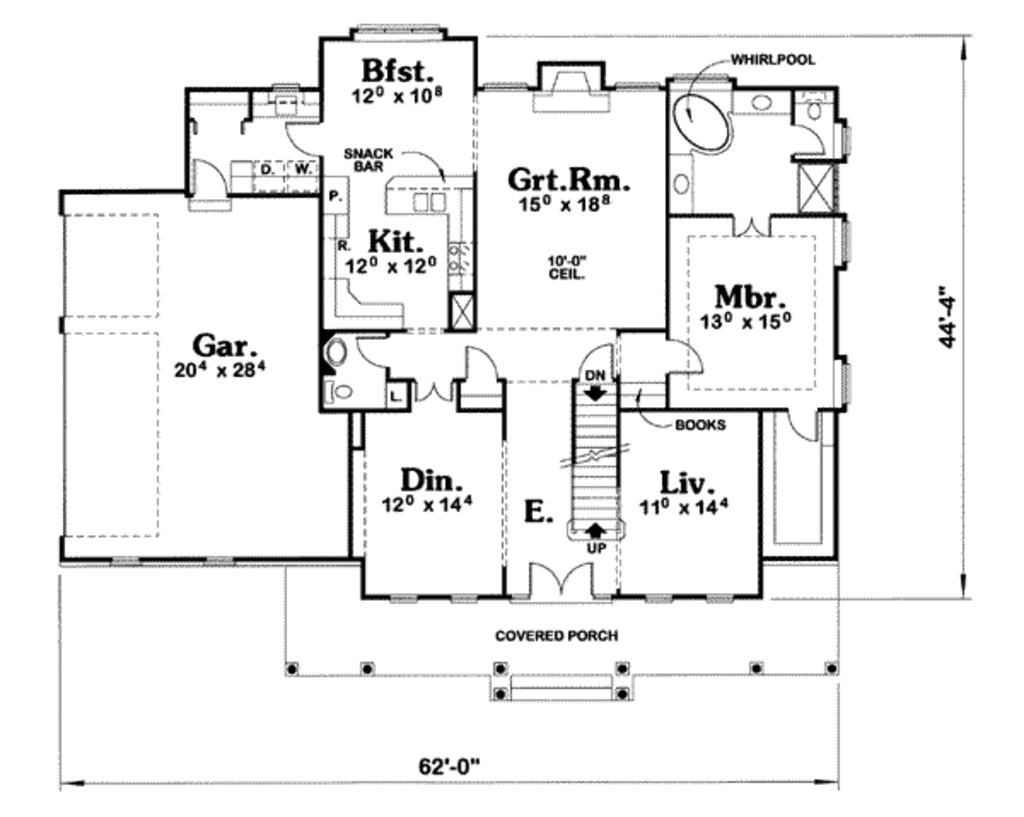door: (524, 558, 595, 601), (662, 335, 709, 383), (785, 404, 828, 449), (188, 156, 230, 201), (726, 209, 779, 244), (287, 119, 324, 167), (790, 119, 828, 160), (354, 330, 389, 372), (462, 342, 499, 381), (413, 375, 455, 404)
kitchen_bar: (378, 172, 476, 225)
large_sink: (323, 371, 358, 407), (795, 88, 832, 122)
small_sink: (732, 87, 795, 119), (668, 152, 698, 219), (319, 332, 358, 372)
tub: (665, 80, 737, 154)
window: (353, 15, 445, 40), (478, 75, 532, 99), (839, 360, 859, 413), (839, 216, 854, 269), (612, 80, 661, 96), (639, 588, 682, 605), (446, 590, 480, 609), (201, 557, 239, 572), (840, 122, 856, 157), (700, 592, 739, 606), (108, 555, 147, 569), (387, 593, 422, 608)
